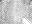person: (21, 16, 29, 24)
